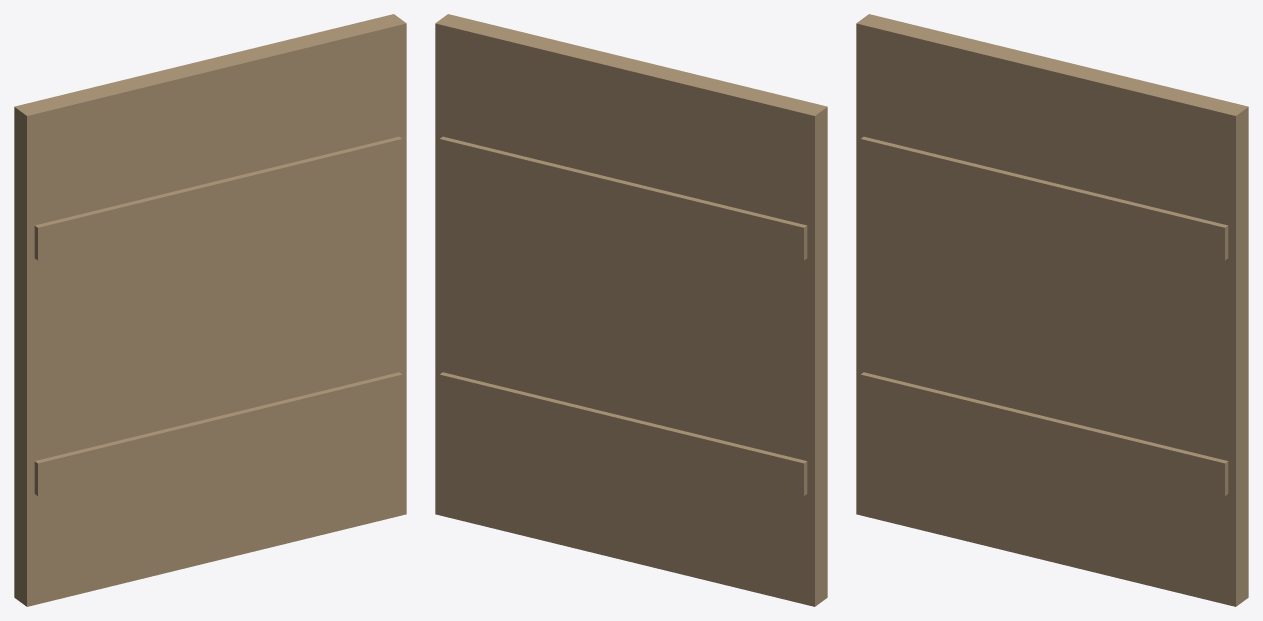
File: door_panel.gltf
3 views of the same model, side by side, from view 1: azimuth 30°, elevation 25°; view 2: azimuth 150°, elevation 25°; view 3: azimuth 330°, elevation 25° (orthographic).
Bounding box in the file's own units: 0.68 × 0.84 × 0.06.
